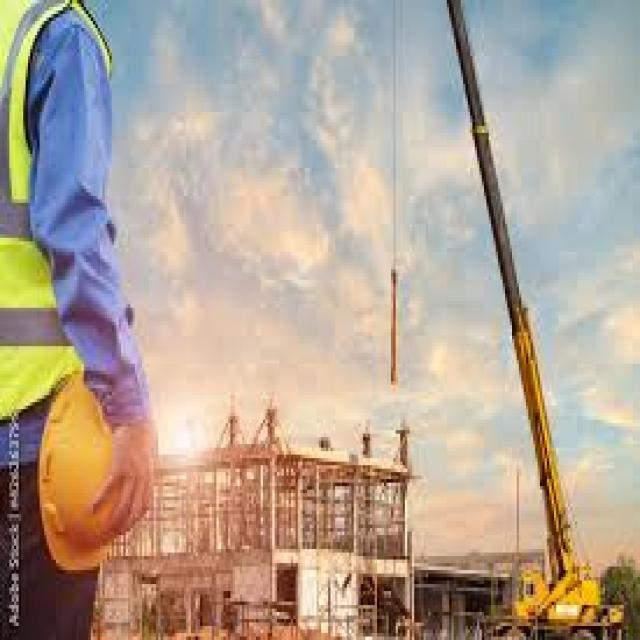Reflective-Jacket: (0, 0, 119, 448)
